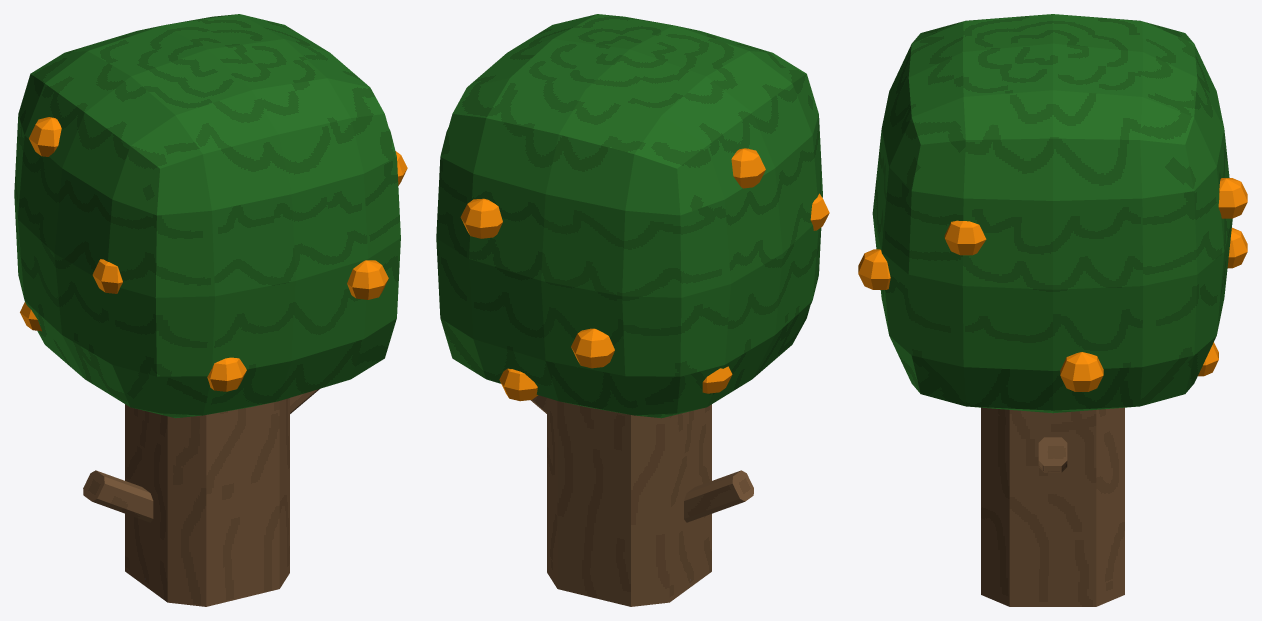
File: tree3dspring.gltf
3 renders of one model, left to right at view 1: azimuth 30°, elevation 25°; view 2: azimuth 150°, elevation 25°; view 3: azimuth 270°, elevation 25°, orthographic.
Visible parts, largest first — view 1: beveled_cuboid; view 2: beveled_cuboid; view 3: beveled_cuboid.
Boxes of the visible parts, x1,y1,x2,y2 form: beveled_cuboid: (14, 14, 407, 606); beveled_cuboid: (436, 14, 829, 606); beveled_cuboid: (858, 14, 1247, 606).
Size of the model in its own units: 1.62 by 2.55 by 1.69.
Materials: 3 (3 with a texture image).
